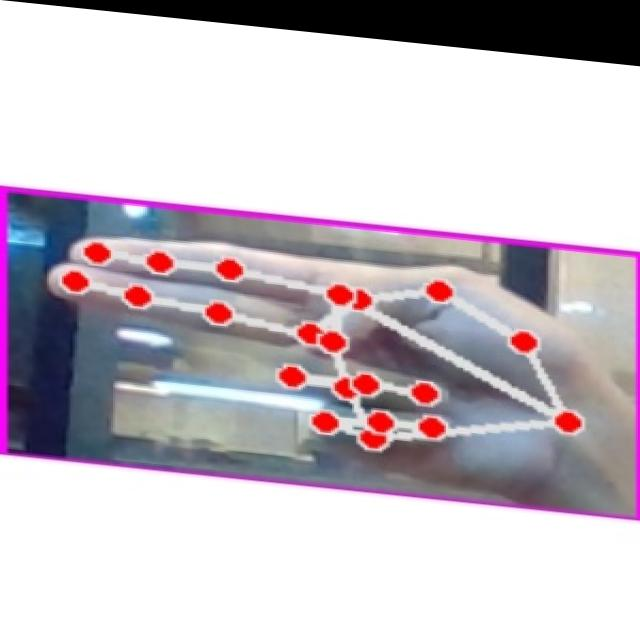H: (37, 204, 617, 486)
